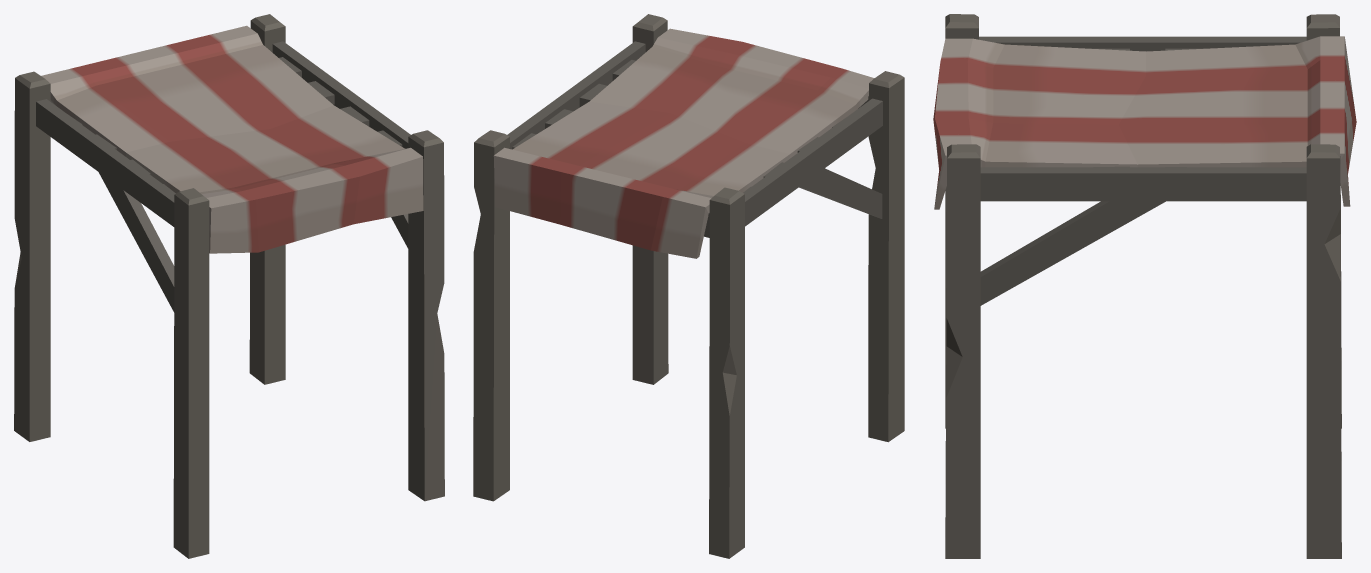
The model's file is SM_Bld_Village_ClothCover_04.fbx.
The picture shows the model from 3 angles, left to right: view 1: azimuth 30°, elevation 25°; view 2: azimuth 150°, elevation 25°; view 3: azimuth 270°, elevation 25°; orthographic projection. The views are drawn at different scales.
Parts seen in each view (by area): view 1: SM_Bld_Village_ClothCover_04, SM_Bld_Village_ClothCover_Cloth_04; view 2: SM_Bld_Village_ClothCover_04, SM_Bld_Village_ClothCover_Cloth_04; view 3: SM_Bld_Village_ClothCover_04, SM_Bld_Village_ClothCover_Cloth_04.
Part boxes in pixels (left/top/right/bottom): SM_Bld_Village_ClothCover_04: left=14, top=14, right=444, bottom=558; SM_Bld_Village_ClothCover_Cloth_04: left=41, top=25, right=423, bottom=253; SM_Bld_Village_ClothCover_04: left=473, top=14, right=904, bottom=558; SM_Bld_Village_ClothCover_Cloth_04: left=493, top=28, right=874, bottom=258; SM_Bld_Village_ClothCover_04: left=945, top=14, right=1341, bottom=558; SM_Bld_Village_ClothCover_Cloth_04: left=933, top=36, right=1356, bottom=209.
Size of the model in its own units: 214 by 285 by 270.
